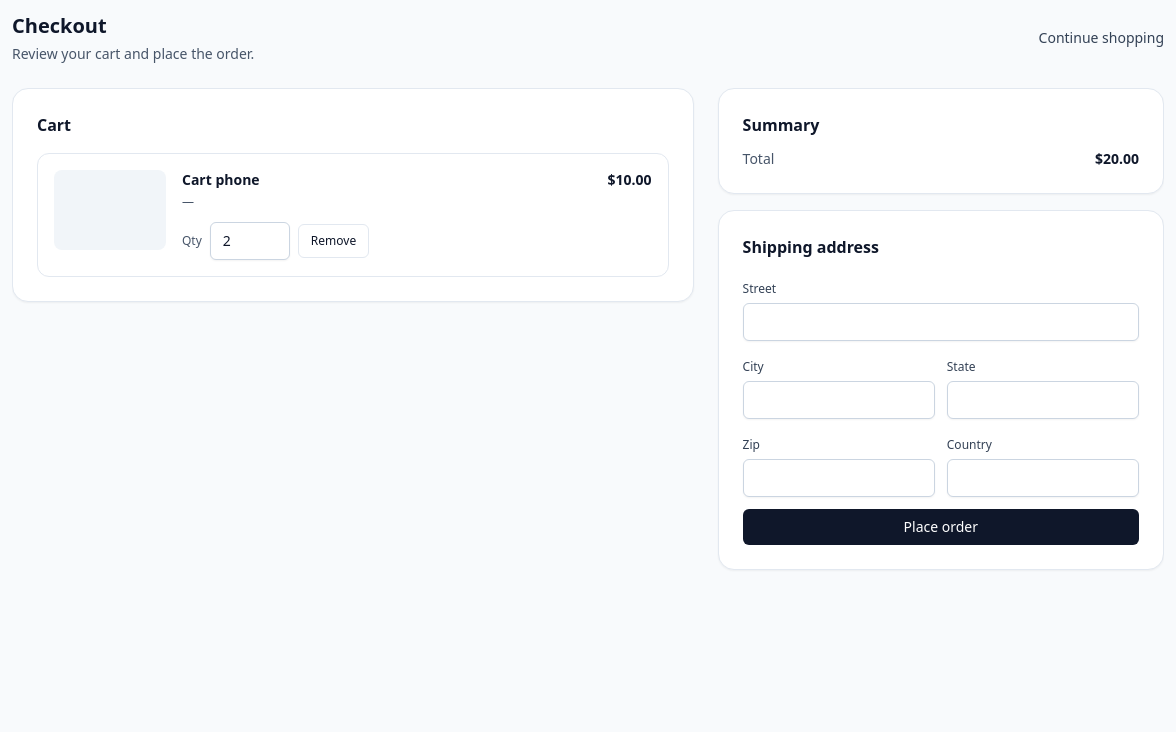
Scenario: CheckoutPage › keeps pending idempotency key when checkout fails with unknown outcome
Expected: the text "Cart phone" is shown, [182,170,260,190]
Type " 1 Main St " into the field labelled "Street" at coordinates (941, 322), box [743,303,1139,341]
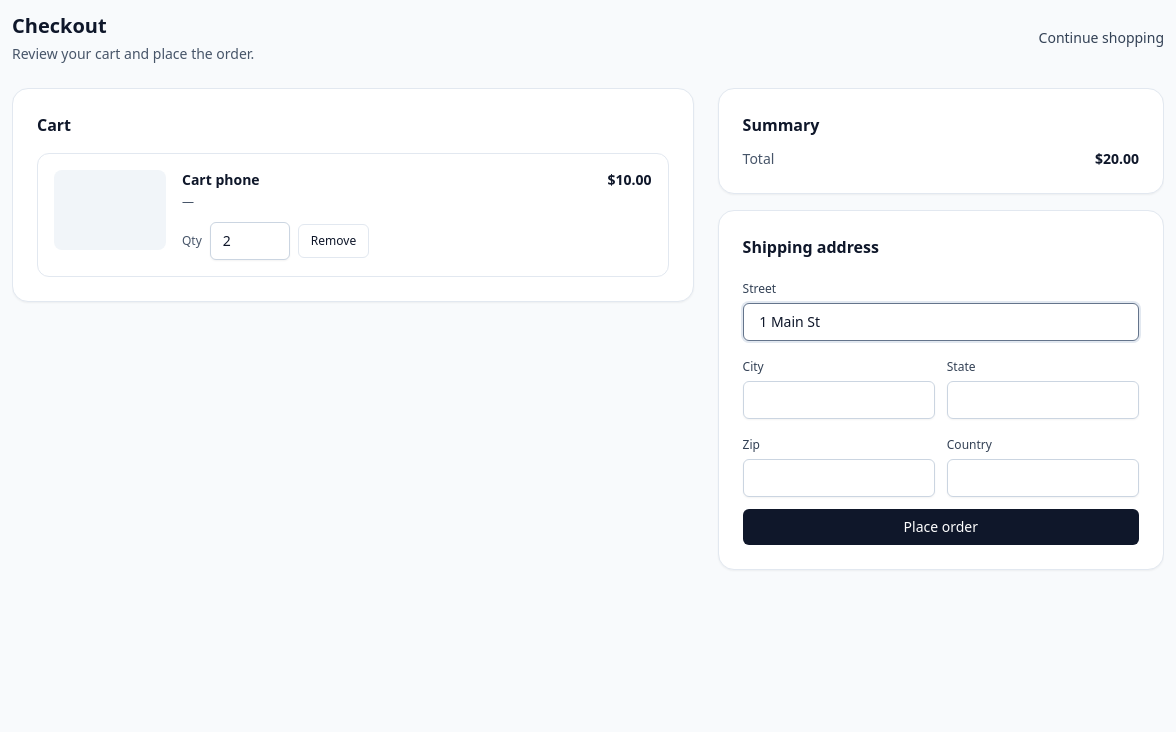
Type " Sydney " into the field labelled "City" at coordinates (839, 400), box [743,381,935,419]
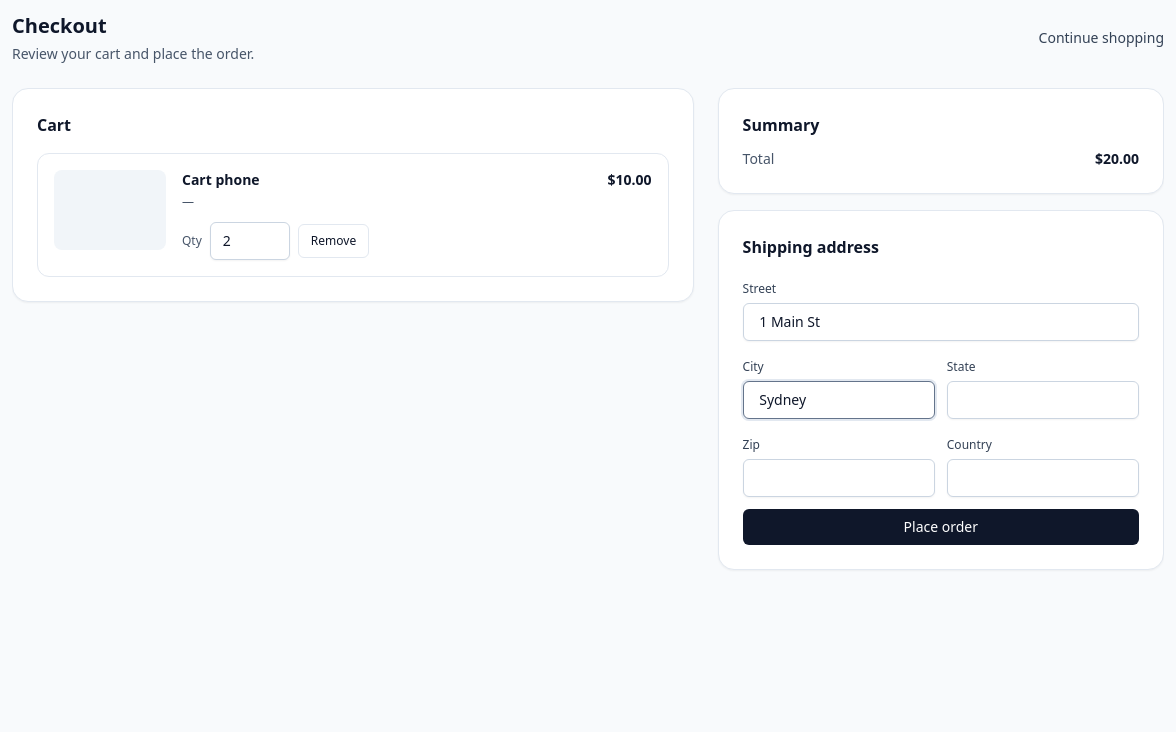
Type " NSW " into the field labelled "State" at coordinates (1043, 400), box [947,381,1139,419]
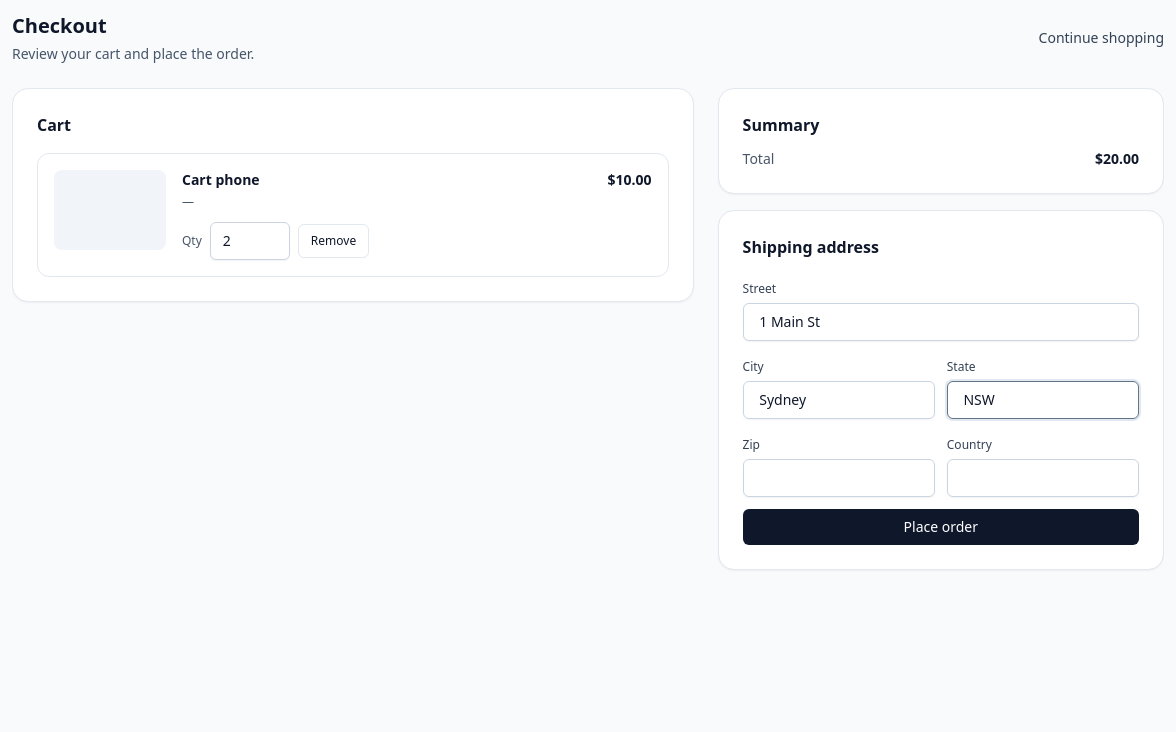
Type " 2000 " into the field labelled "Zip" at coordinates (839, 478), box [743,459,935,497]
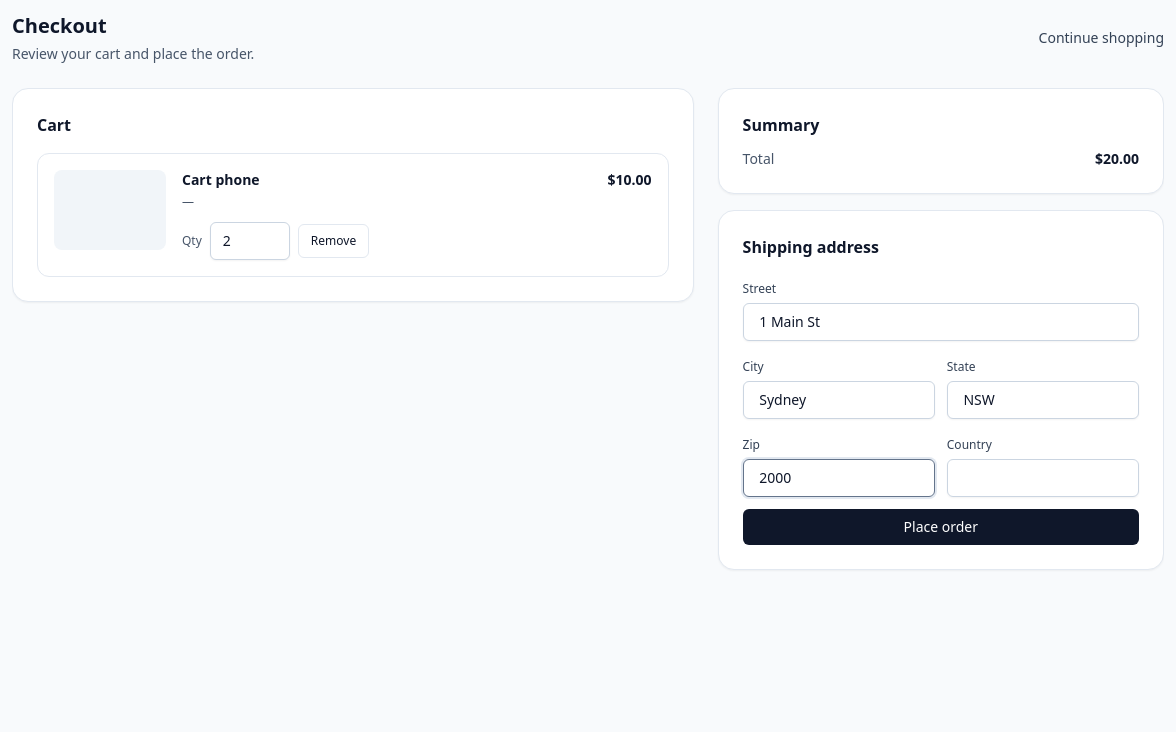
Type " AU " into the field labelled "Country" at coordinates (1043, 478), box [947,459,1139,497]
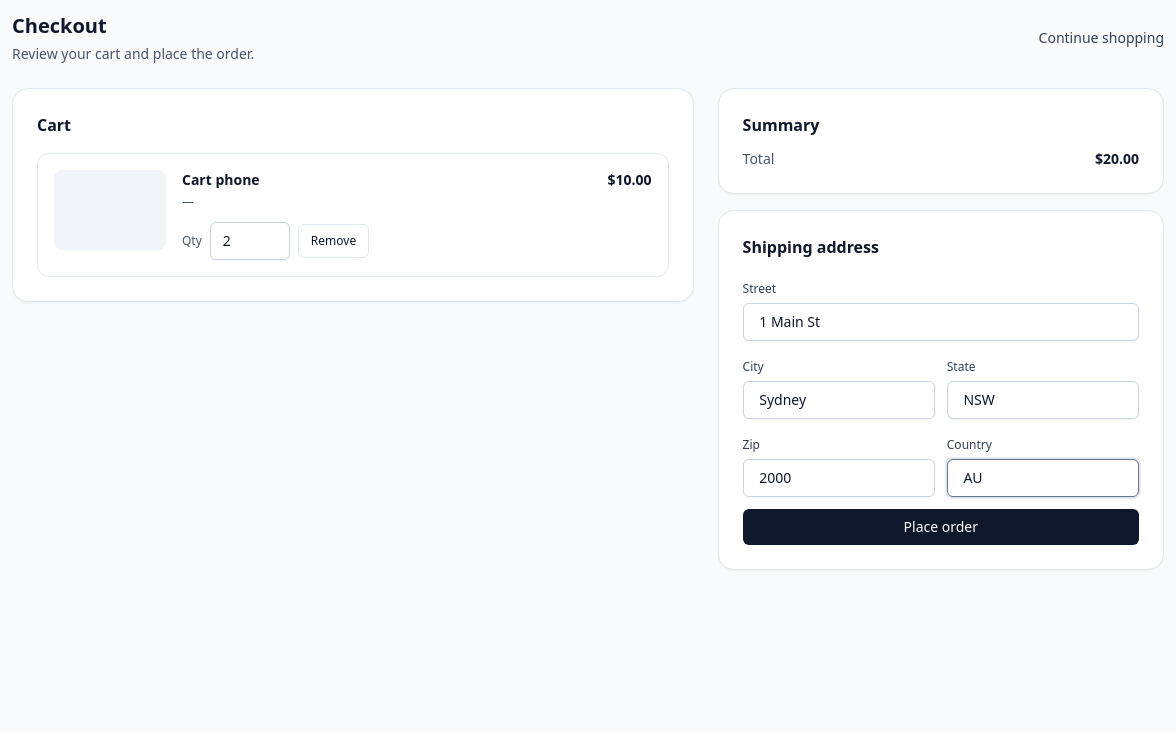
Click the button "Place order" at coordinates (941, 527), box [743,509,1139,545]
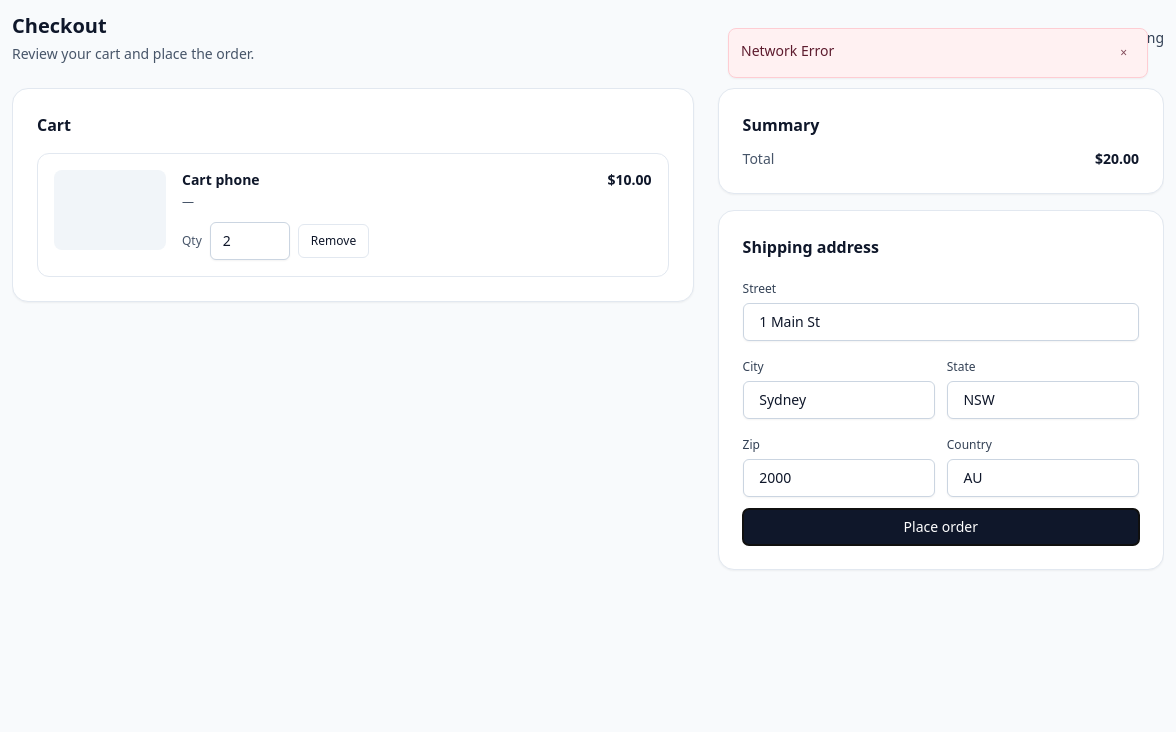
Expected: the text "Network Error" is shown, [741,41,834,60]
